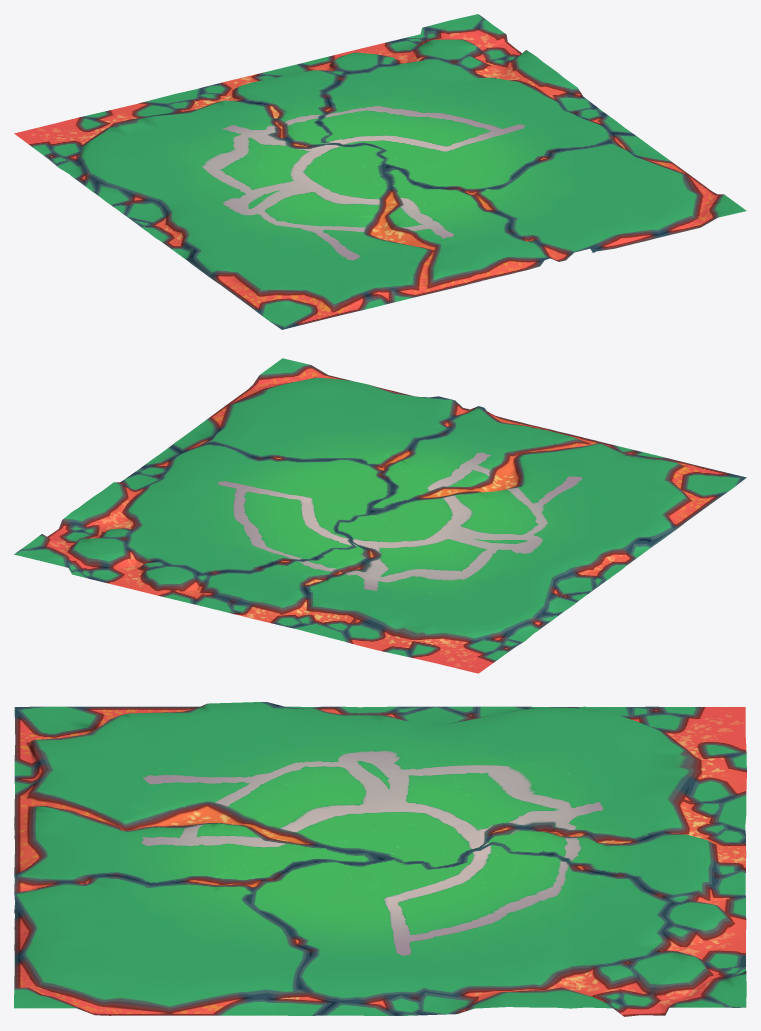
File: Park_grass.fbx
3 views of the same model, one above another, from view 1: azimuth 30°, elevation 25°; view 2: azimuth 150°, elevation 25°; view 3: azimuth 270°, elevation 25° (orthographic). The views are drawn at different scales.
Visible parts, largest first — view 1: PolyGroup1; view 2: PolyGroup1; view 3: PolyGroup1.
Part boxes in pixels (x1,y1,x2,y2): PolyGroup1: (14,14,746,329); PolyGroup1: (14,358,746,673); PolyGroup1: (14,702,746,1016).
Size of the model in its own units: 396269 by 6683 by 396340.
1 material, 1 textured.
